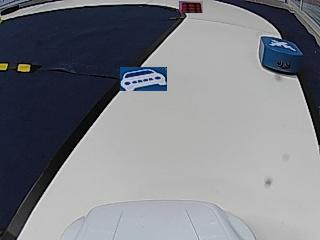prop: (260, 36, 302, 73)
